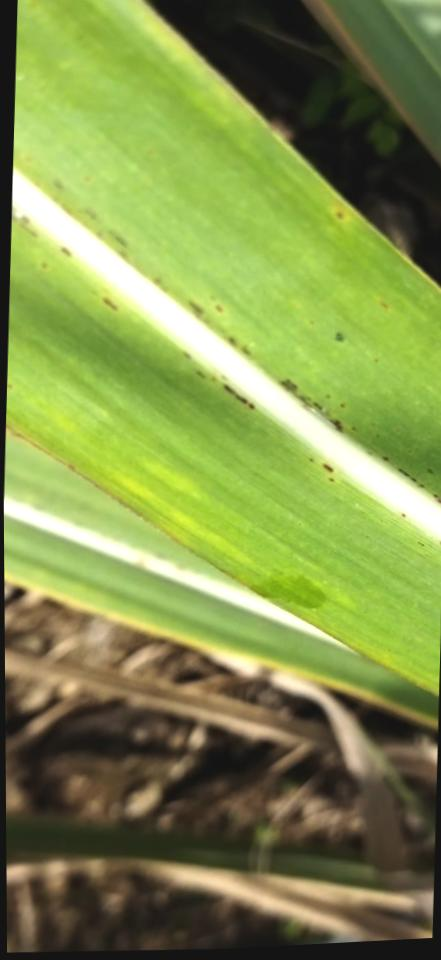Rust: (44, 177, 173, 294), (276, 373, 346, 434), (215, 373, 256, 413), (10, 208, 39, 240), (223, 333, 254, 361), (395, 466, 425, 490), (185, 299, 212, 324), (319, 460, 335, 486), (99, 296, 119, 315), (332, 326, 346, 346), (56, 244, 73, 259), (430, 492, 441, 506), (380, 455, 391, 464)
